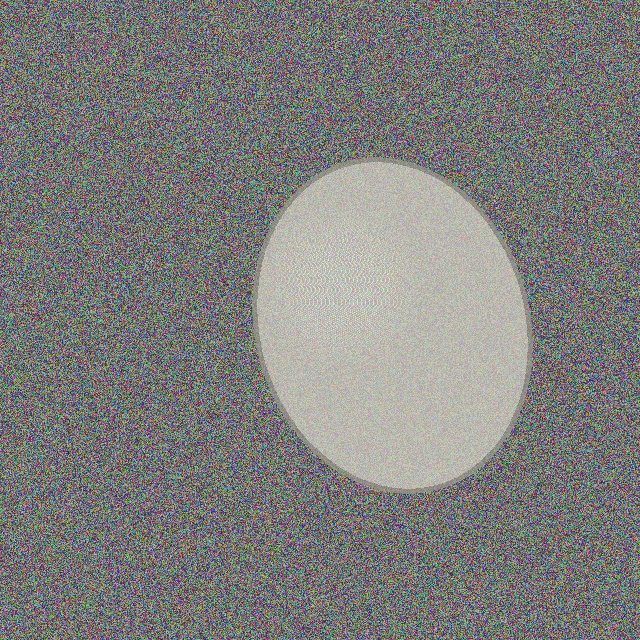lens: (255, 159, 529, 491)
